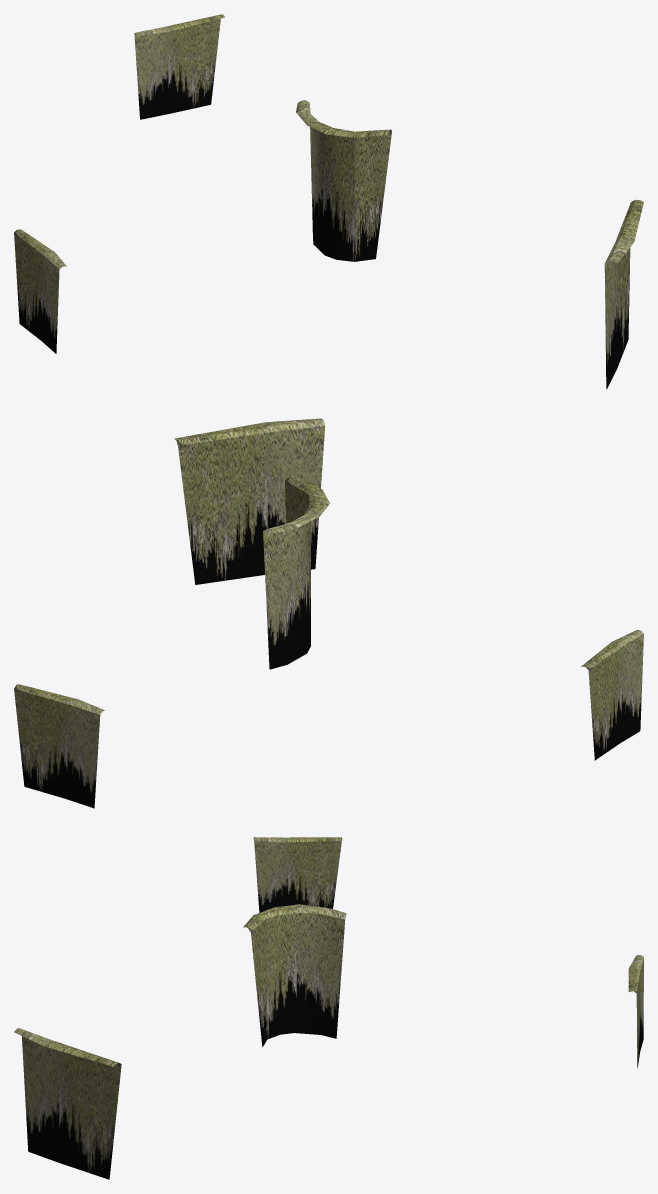
The model's file is SM_Chateaux_03_02.fbx.
3 renders of one model, top to bottom at view 1: azimuth 30°, elevation 25°; view 2: azimuth 150°, elevation 25°; view 3: azimuth 270°, elevation 25°, orthographic. The views are drawn at different scales.
Parts seen in each view (by area): view 1: SM_Chateaux_03_02; view 2: SM_Chateaux_03_02; view 3: SM_Chateaux_03_02.
Boxes of the visible parts, bbox=[...] form: SM_Chateaux_03_02: bbox=[14, 14, 643, 389]; SM_Chateaux_03_02: bbox=[14, 418, 643, 808]; SM_Chateaux_03_02: bbox=[14, 837, 643, 1179].
Size of the model in its own units: 2091 by 771 by 2440.
